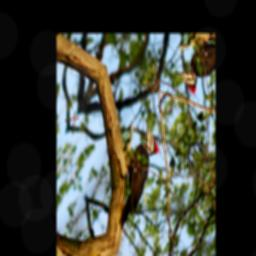Woodpecker: (99, 114, 171, 235)
